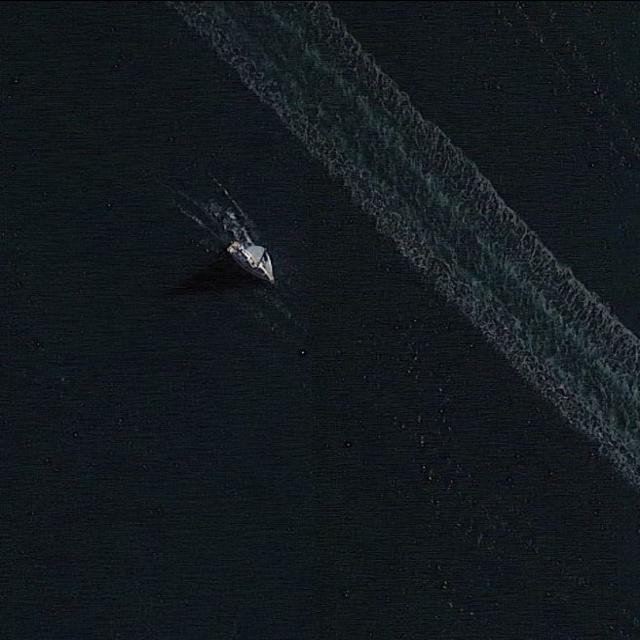ship: (219, 230, 281, 287)
